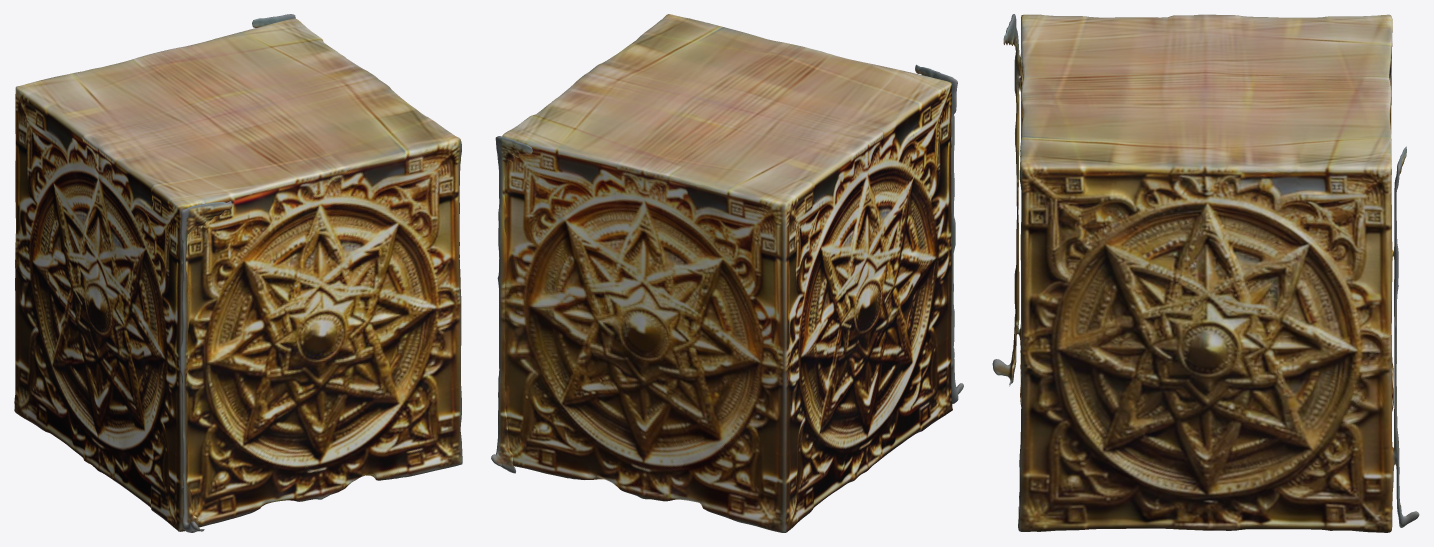
The model's file is sri_yantra_3d.glb.
3 views of the same model, side by side, from view 1: azimuth 30°, elevation 25°; view 2: azimuth 150°, elevation 25°; view 3: azimuth 270°, elevation 25° (orthographic). The views are drawn at different scales.
Parts seen in each view (by area): view 1: tripo_node_779dadbd-38ab-46fb-a6c7-dcac6b3d2e01; view 2: tripo_node_779dadbd-38ab-46fb-a6c7-dcac6b3d2e01; view 3: tripo_node_779dadbd-38ab-46fb-a6c7-dcac6b3d2e01.
Boxes of the visible parts, x1=… form: tripo_node_779dadbd-38ab-46fb-a6c7-dcac6b3d2e01: x1=14, y1=14, x2=462, y2=532; tripo_node_779dadbd-38ab-46fb-a6c7-dcac6b3d2e01: x1=491, y1=14, x2=963, y2=532; tripo_node_779dadbd-38ab-46fb-a6c7-dcac6b3d2e01: x1=992, y1=14, x2=1419, y2=532.
Size of the model in its own units: 0.6035 by 0.6903 by 0.6971.
1 material, 1 textured.
